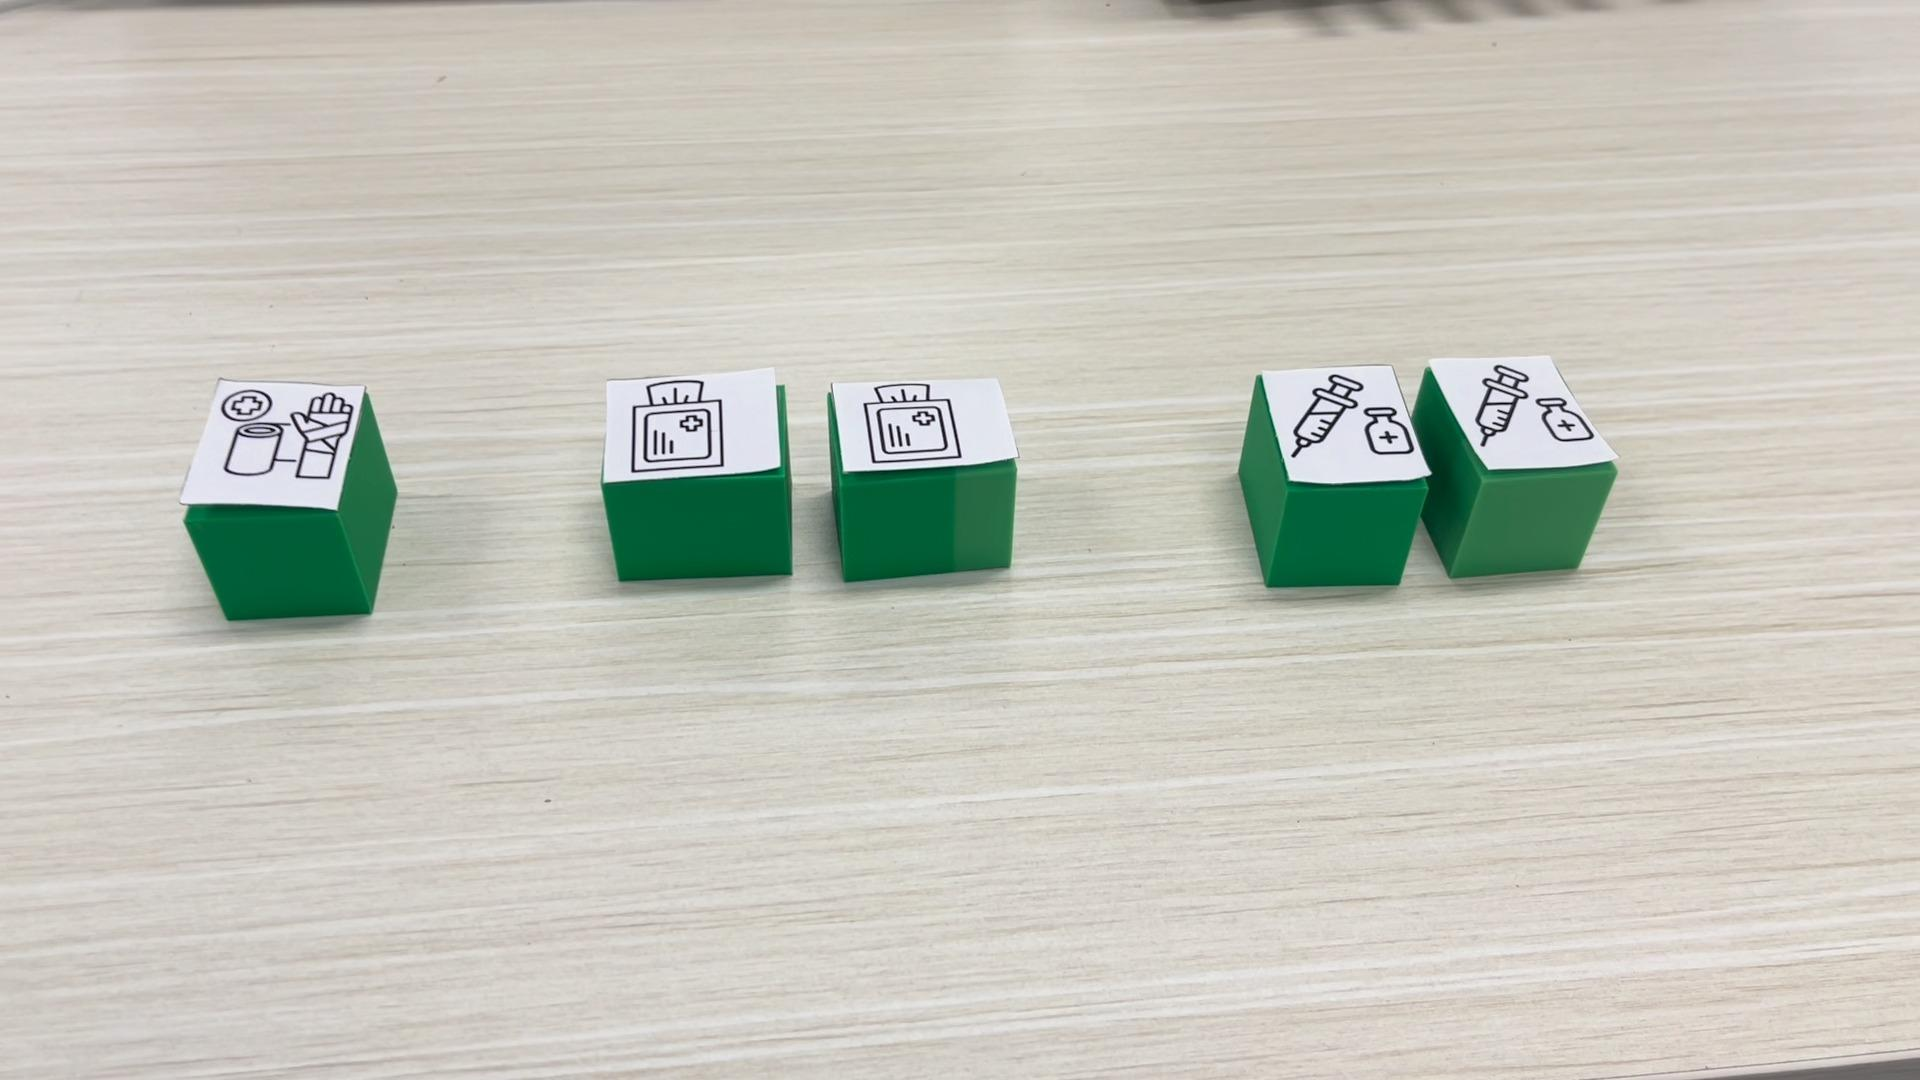Bandages: (179, 378, 396, 622)
Gauze: (600, 367, 793, 582), (825, 375, 1019, 583)
antiseptic cream: (1411, 351, 1618, 580), (1236, 361, 1433, 588)
